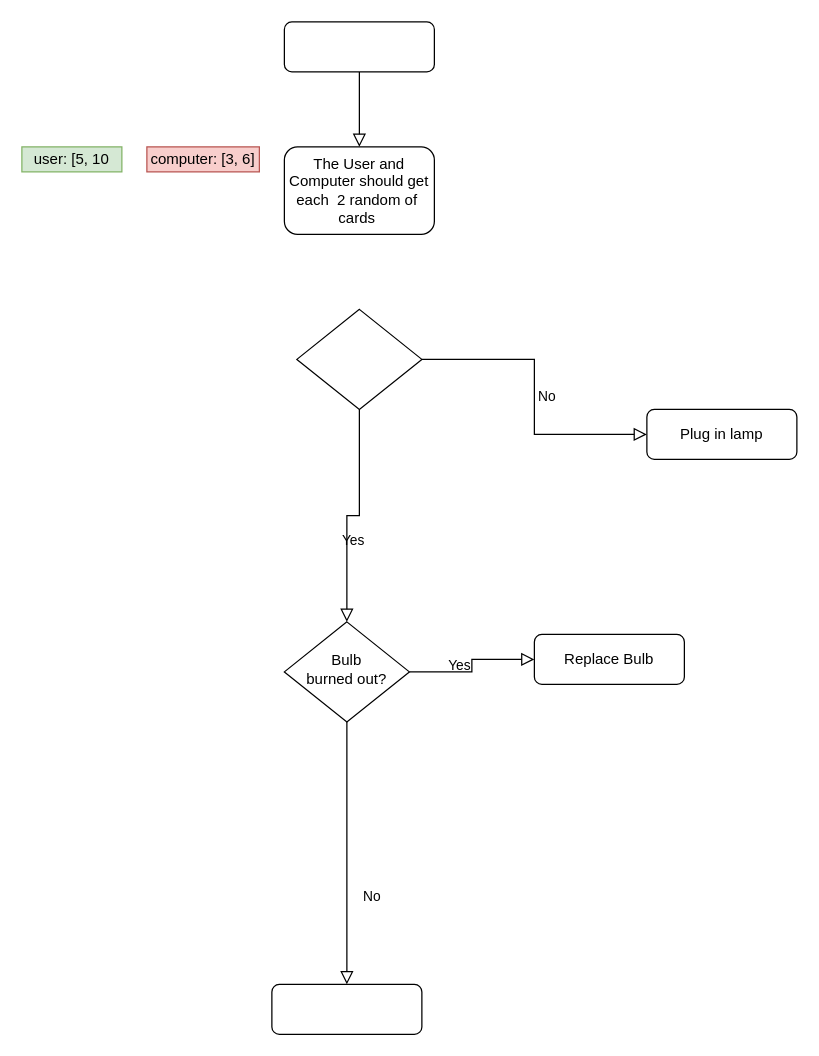
Image size: 819x1056. Some labels were removed from this diagram. The centre of each missing label's shape, as x and y in pixels:
"Lamp plugged in?" belongs at (x=359, y=358).
"Repair Lamp" belongs at (x=346, y=1008).
"Start" belongs at (x=358, y=46).
